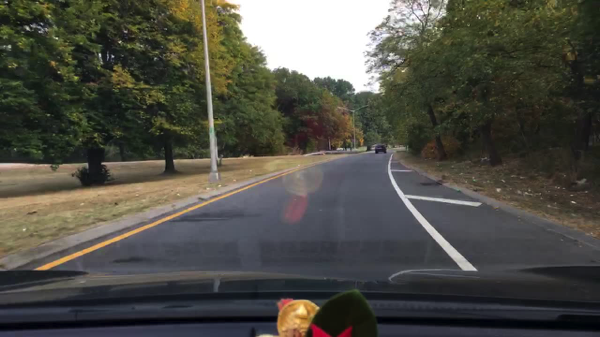car: (374, 144, 386, 154), (336, 148, 345, 152)
traffic sign: (359, 138, 364, 143), (360, 142, 362, 146)
